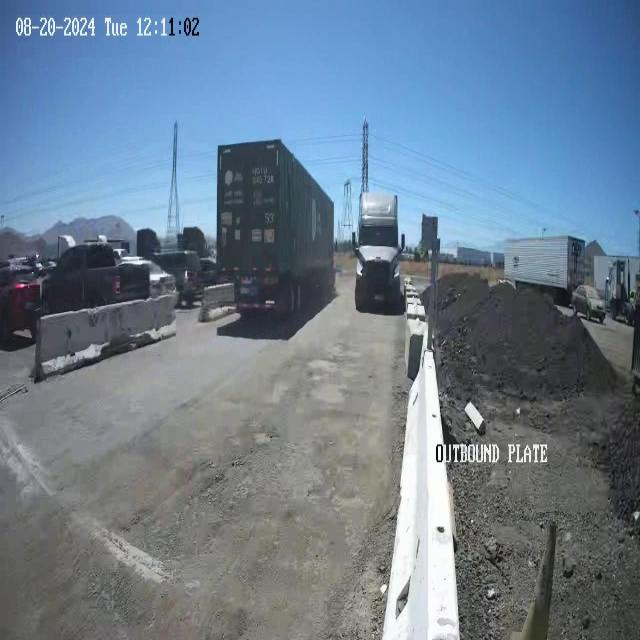TRUCK_IN: (215, 138, 335, 320)
TRUCK_OUT: (352, 176, 406, 322)
